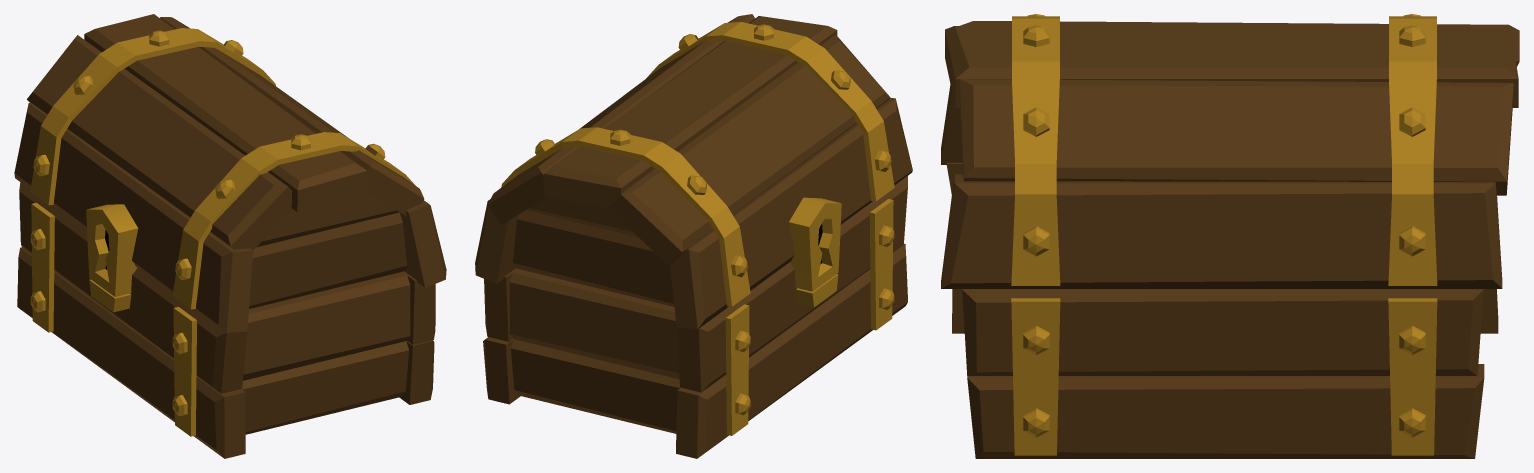
Rendered from ChestColor.fbx.
3 renders of one model, left to right at view 1: azimuth 30°, elevation 25°; view 2: azimuth 150°, elevation 25°; view 3: azimuth 270°, elevation 25°, orthographic. The views are drawn at different scales.
Parts seen in each view (by area): view 1: polySurface2458; view 2: polySurface2458; view 3: polySurface2458.
Boxes of the visible parts, left/top/right/bottom form: polySurface2458: left=14, top=14, right=446, bottom=458; polySurface2458: left=475, top=14, right=912, bottom=458; polySurface2458: left=941, top=14, right=1519, bottom=458.
Size of the model in its own units: 101 by 104 by 150.
